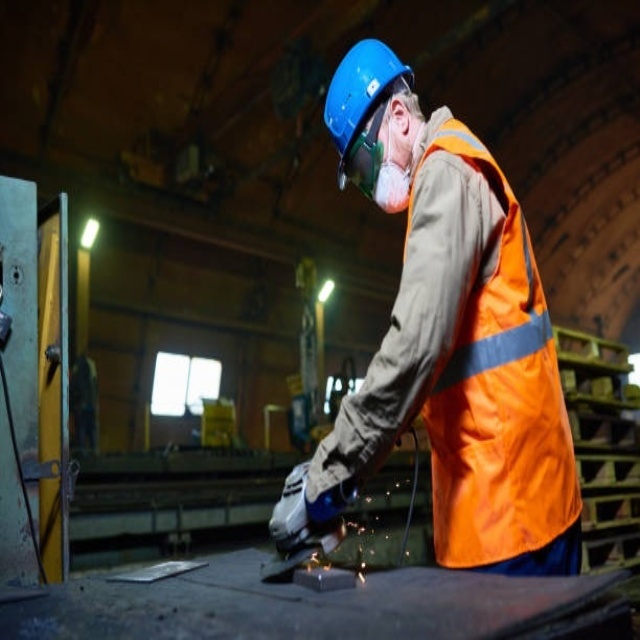Gafas: (342, 79, 408, 201)
Mascara: (374, 155, 413, 214)
